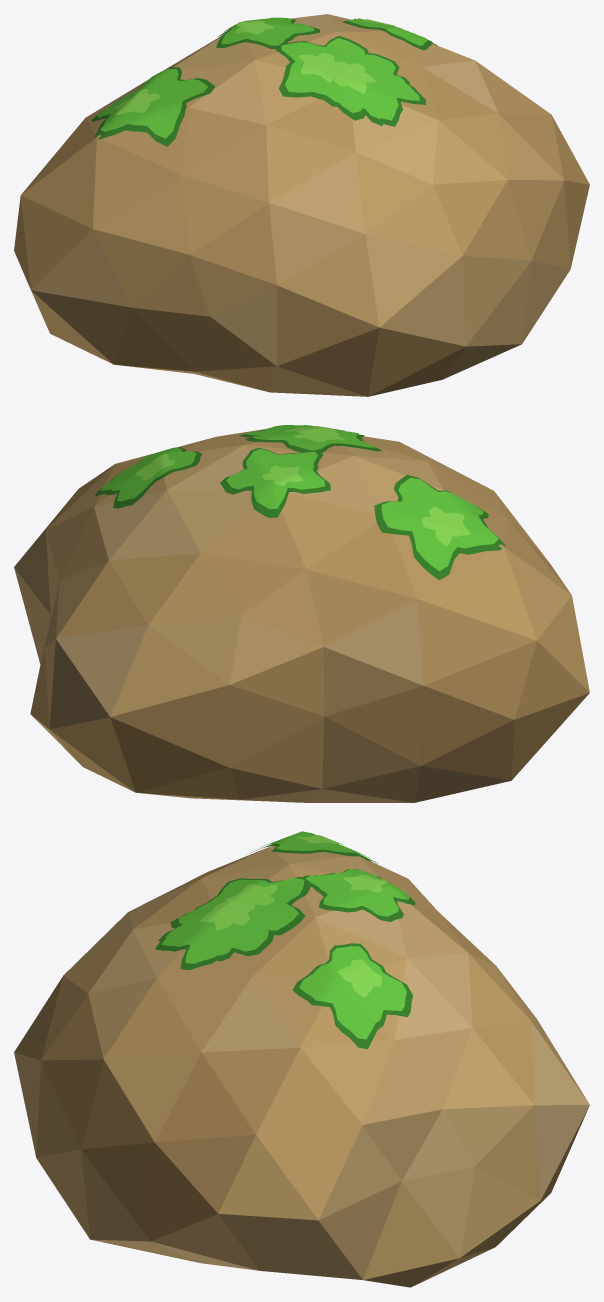
File: rock_5_dots.glb
The picture shows the model from 3 angles, top to bottom: view 1: azimuth 30°, elevation 25°; view 2: azimuth 150°, elevation 25°; view 3: azimuth 270°, elevation 25°; orthographic projection. The views are drawn at different scales.
Parts seen in each view (by area): view 1: rock_5_dots; view 2: rock_5_dots; view 3: rock_5_dots.
Part boxes in pixels (left/top/right/bottom): rock_5_dots: left=14, top=14, right=589, bottom=396; rock_5_dots: left=14, top=425, right=589, bottom=802; rock_5_dots: left=14, top=831, right=589, bottom=1287.
Bounding box in the file's own units: 4.02 × 2.12 × 3.42.
